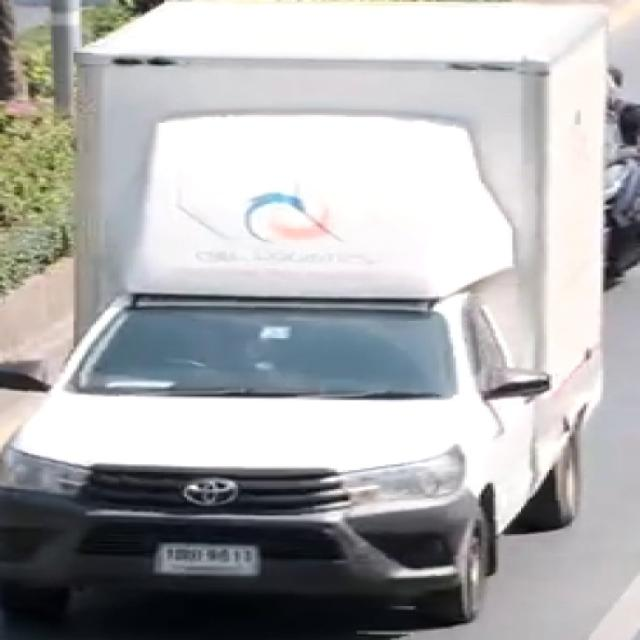plate: (153, 544, 264, 576)
